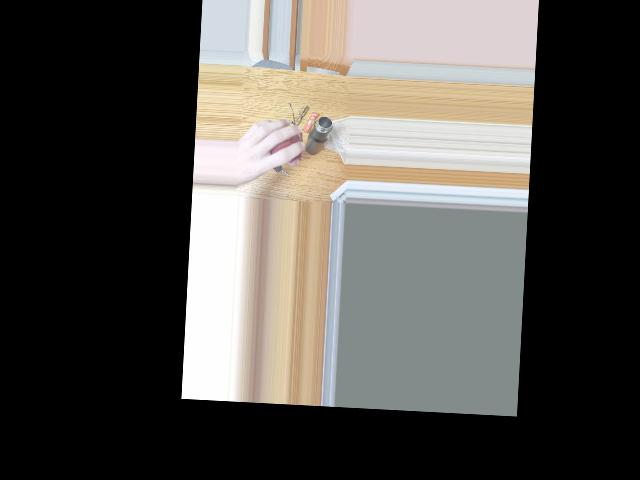onion: (262, 123, 296, 165)
